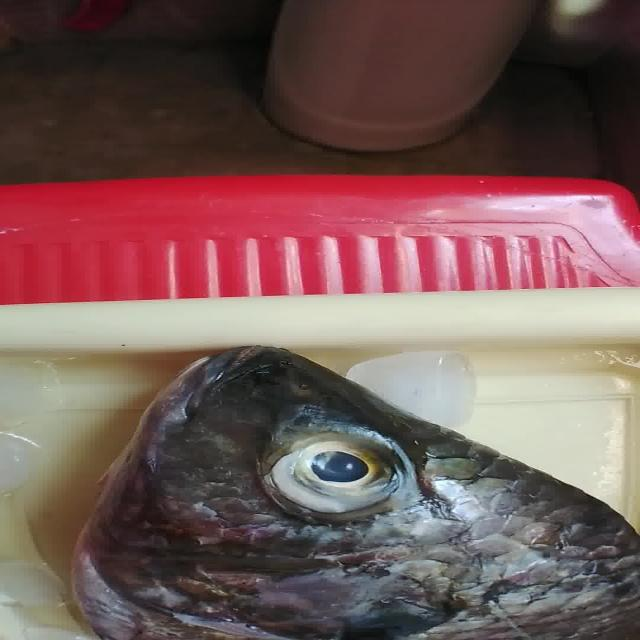Fresh: (263, 417, 450, 532)
